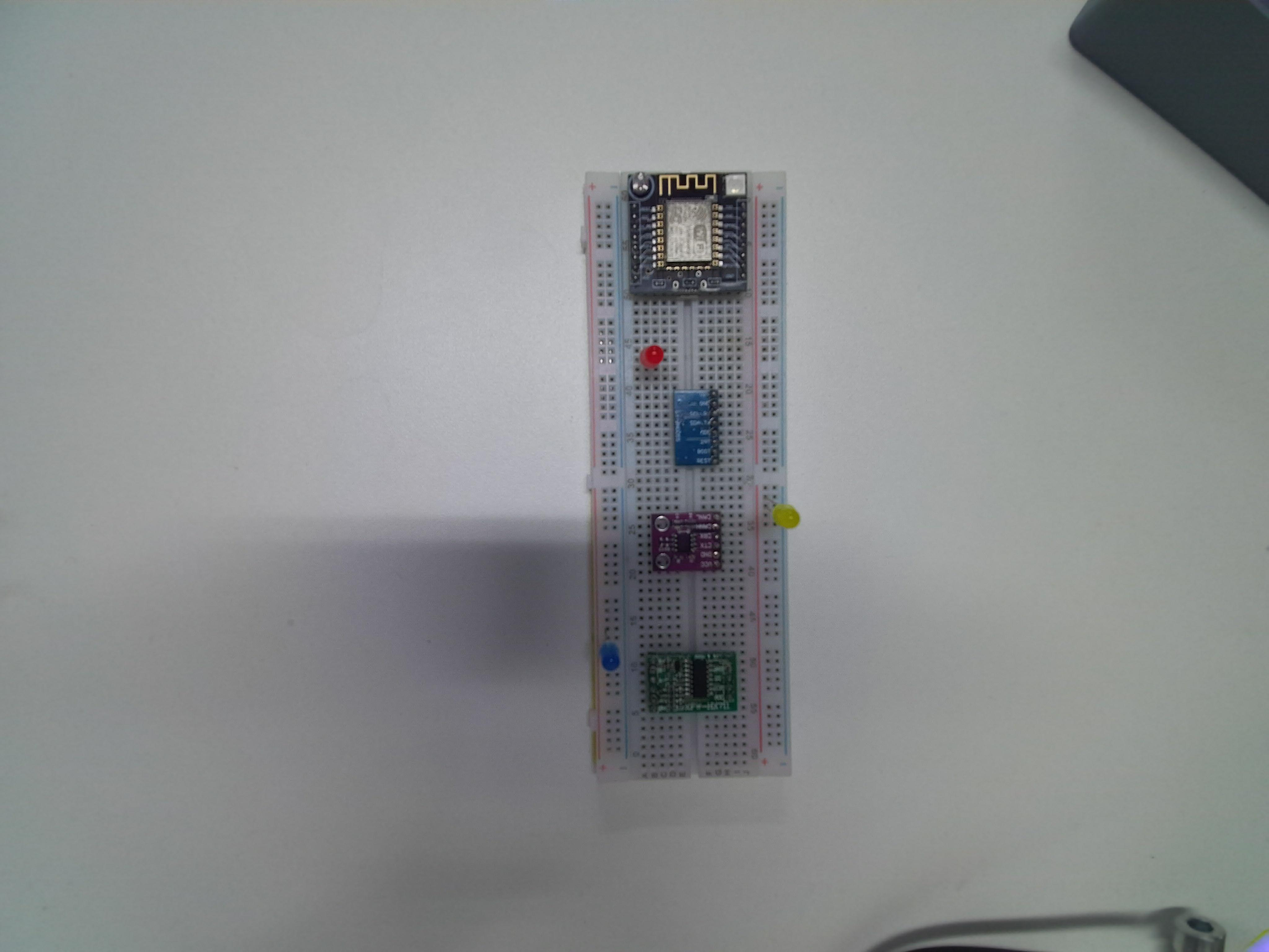base: (580, 169, 795, 786)
blue-board: (671, 386, 722, 471)
blue-led: (596, 640, 624, 675)
esp: (624, 166, 748, 302)
green-board: (638, 643, 740, 718)
purple-board: (648, 509, 722, 574)
red-led: (637, 340, 670, 378)
yellow-led: (771, 502, 801, 528)
